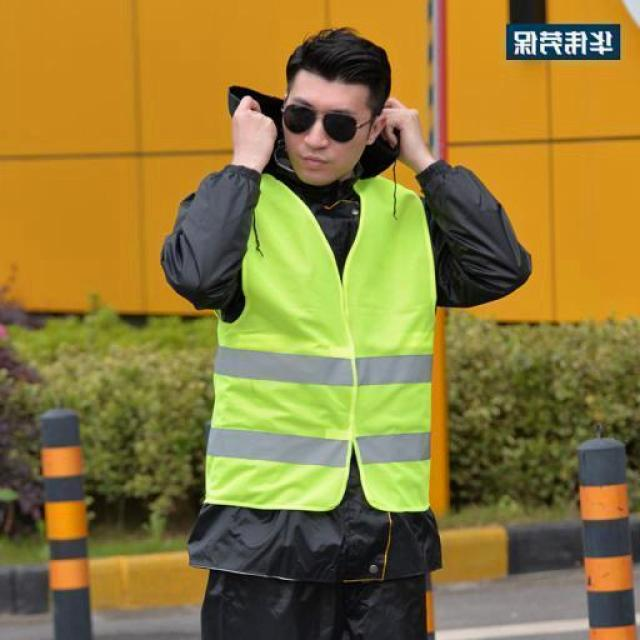face_nomask: (282, 96, 362, 179)
glasses: (276, 99, 362, 145)
hand_noglove: (228, 91, 281, 162), (375, 94, 429, 154)
head_nohelmet: (280, 23, 398, 91)
person: (152, 21, 537, 640)
vest: (202, 178, 433, 514)
